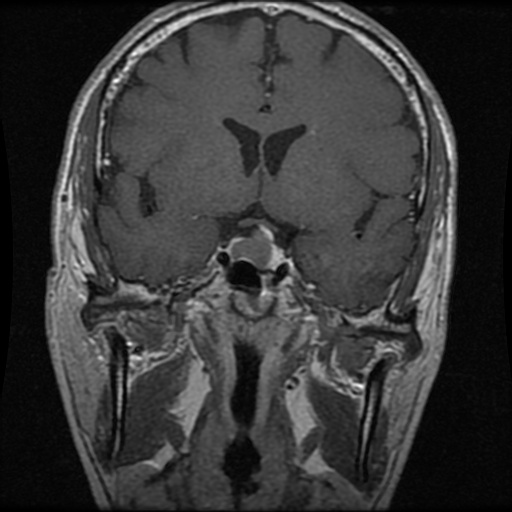pituitary: (230, 228, 277, 267)
